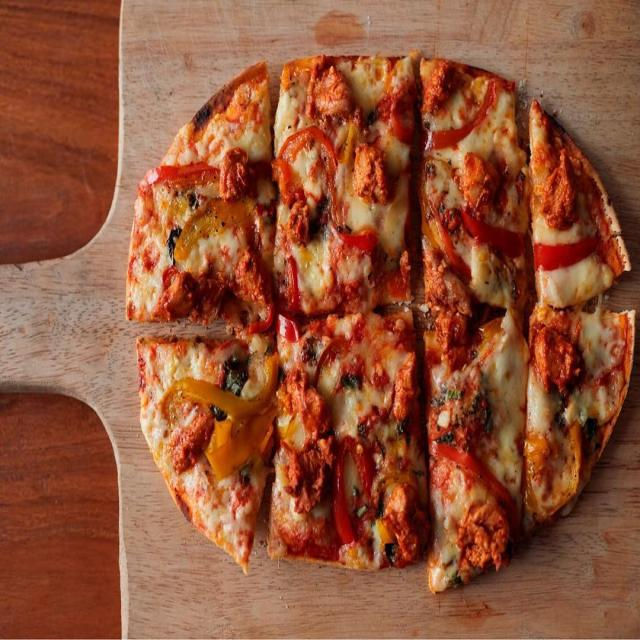pizza: (122, 49, 640, 597)
